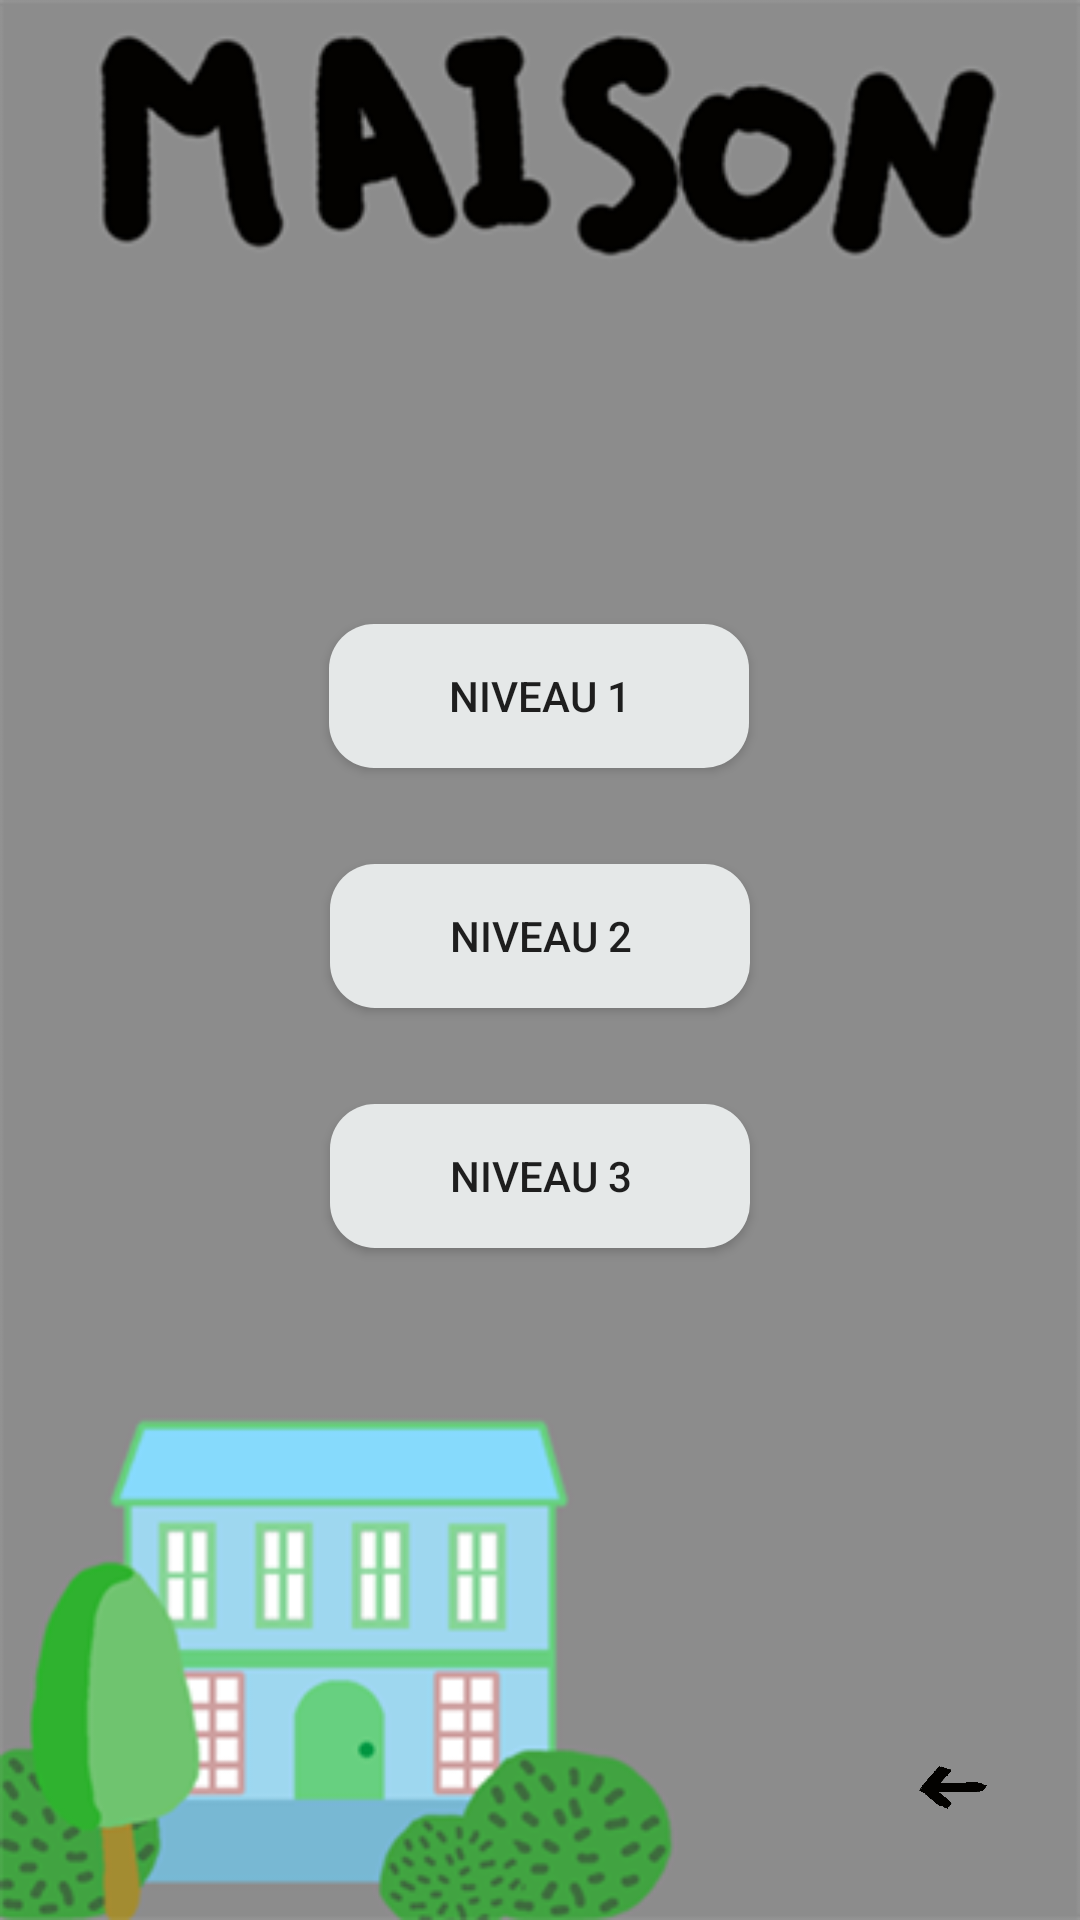

Screen size 1080*1920. Icon name, then its center in pixels as point (x, y):
retour: point (953, 1787)
